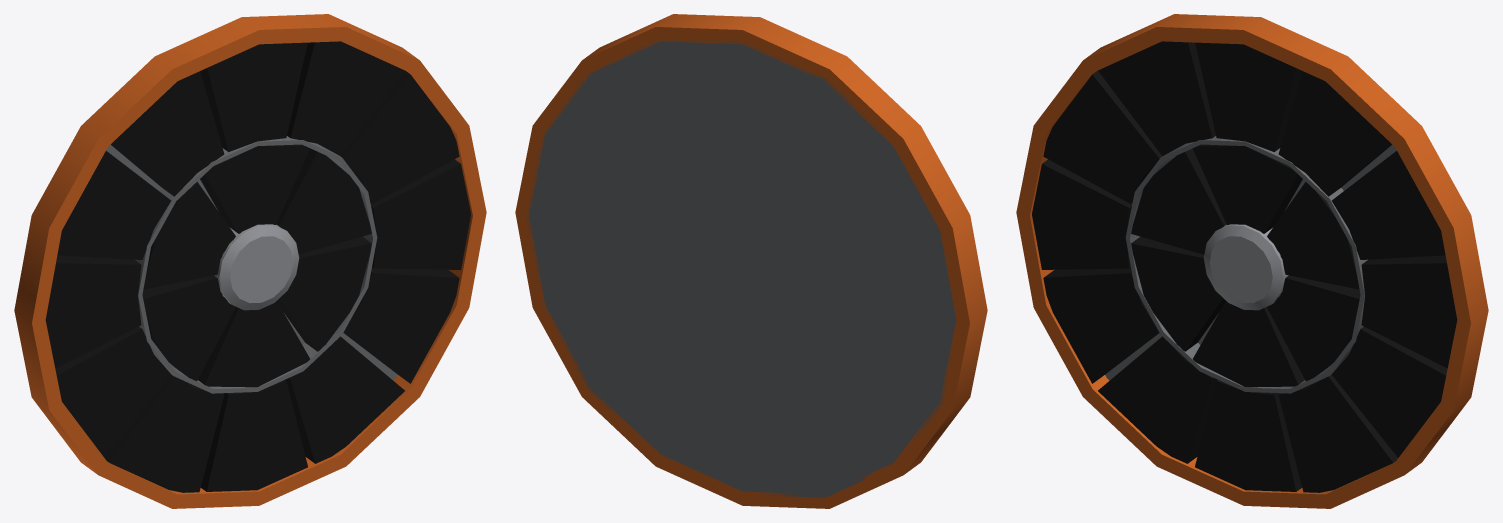
File: engine_hot_emitter_annulus.obj
3 views of the same model, side by side, from view 1: azimuth 30°, elevation 25°; view 2: azimuth 150°, elevation 25°; view 3: azimuth 330°, elevation 25° (orthographic).
Visible parts, largest first — view 1: engine_hot_emitter_annulus; view 2: engine_hot_emitter_annulus; view 3: engine_hot_emitter_annulus.
Boxes of the visible parts, left/top/right/bottom form: engine_hot_emitter_annulus: left=14, top=14, right=486, bottom=508; engine_hot_emitter_annulus: left=515, top=14, right=987, bottom=508; engine_hot_emitter_annulus: left=1016, top=14, right=1488, bottom=508.
Bounding box in the file's own units: 4.32 × 4.32 × 0.33.
